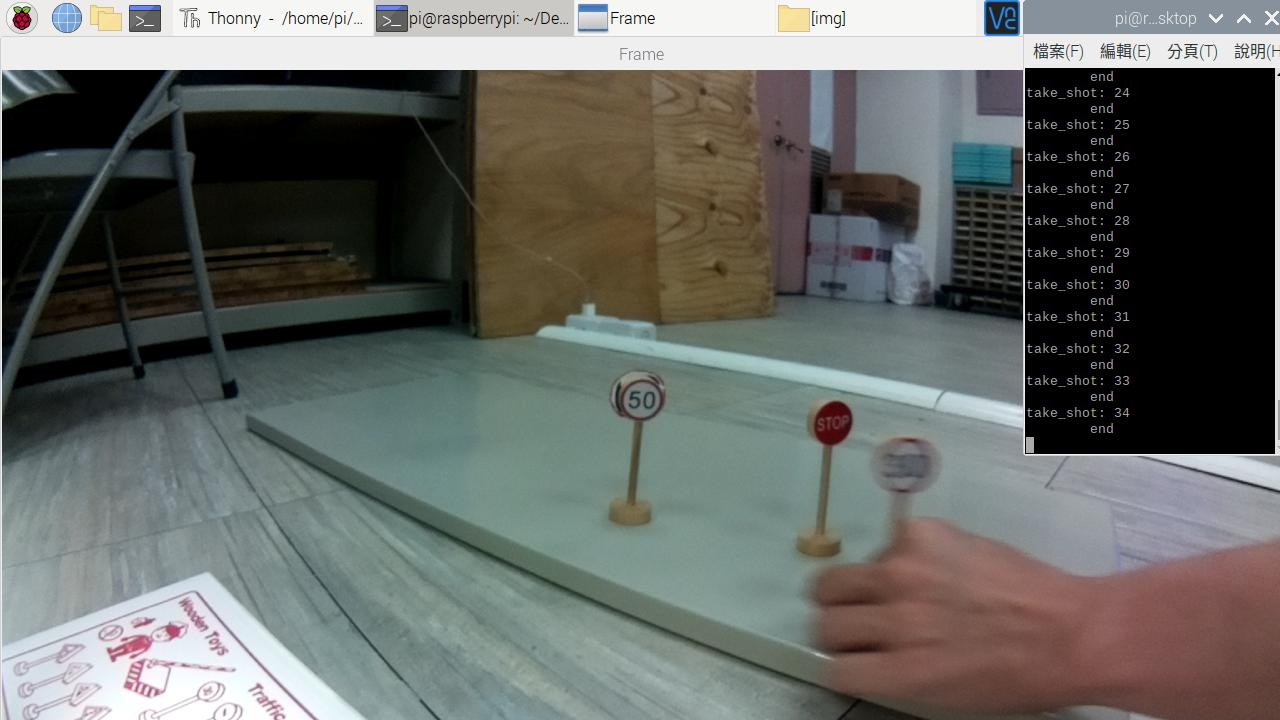Speed50: (614, 372, 664, 418)
Stop: (809, 396, 858, 447)
